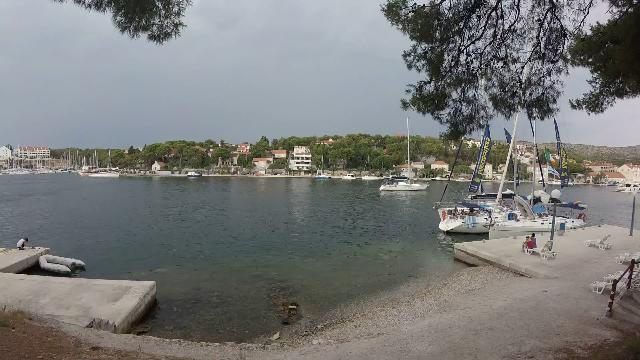Sailboat: (374, 175, 434, 195)
